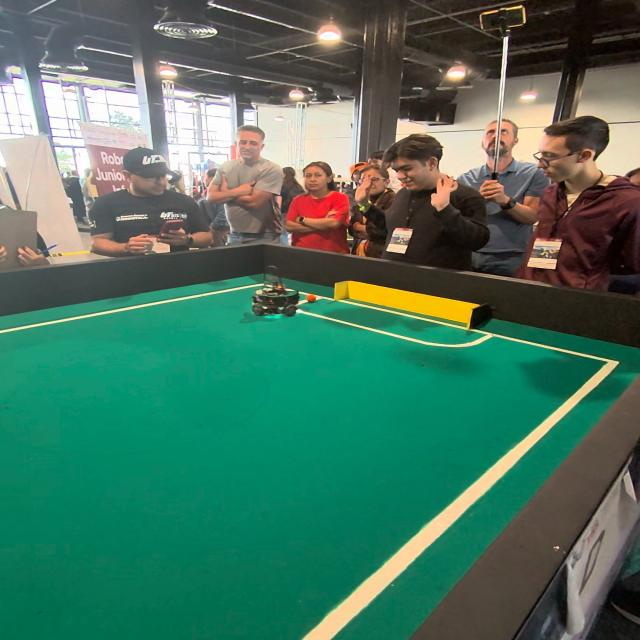Robot: (250, 271, 304, 320)
pelota: (299, 291, 325, 308)
